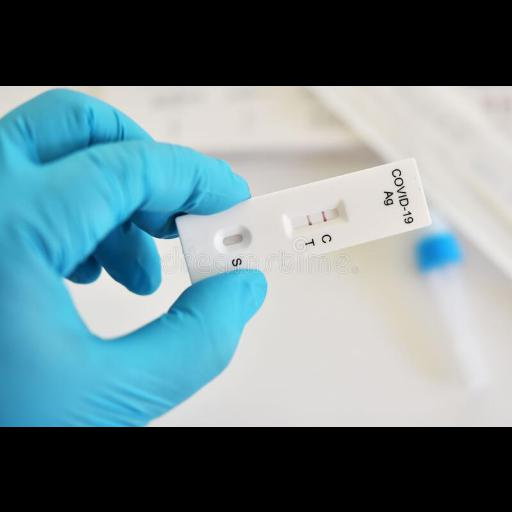Pos: (176, 155, 434, 286)
